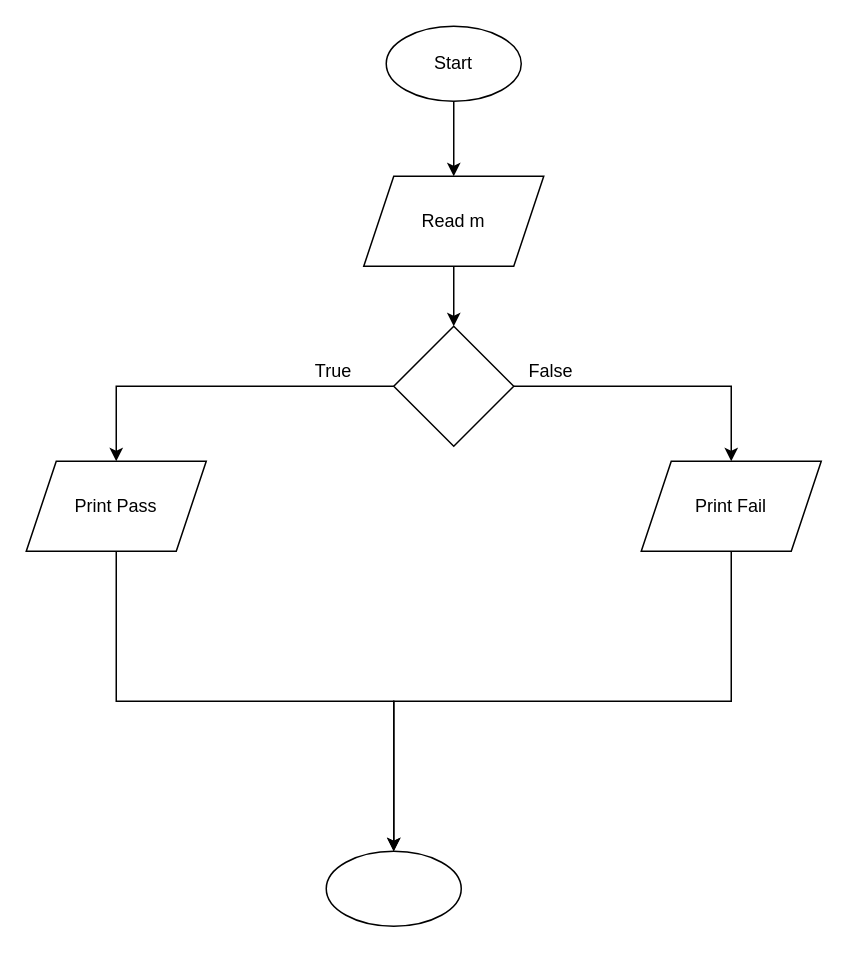
This 848x953 diagram has some shape labels left out. Here are the shapes that lost their labels. From the top down, the box of each, then its label:
(392, 325, 514, 446): m>=40
(325, 850, 461, 926): Stop
